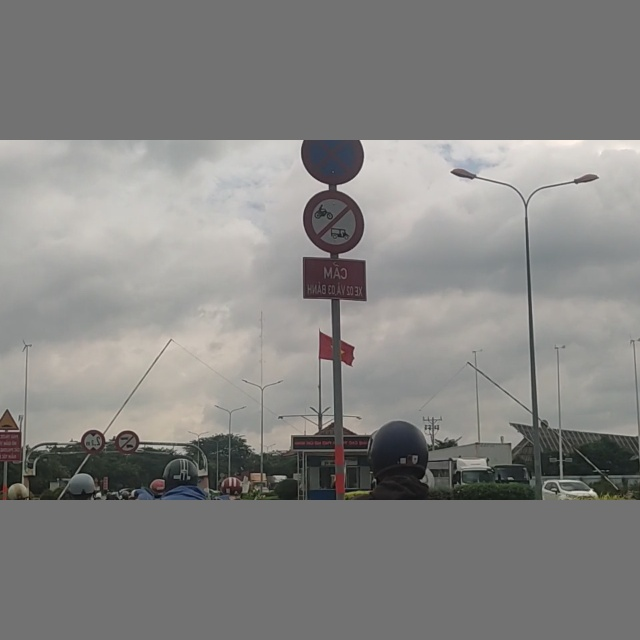P.107: (115, 431, 138, 454)
P.111: (303, 191, 363, 253)
P.117*: (80, 429, 106, 455)
P.130: (298, 141, 365, 185)
W.221b: (0, 409, 20, 431)
